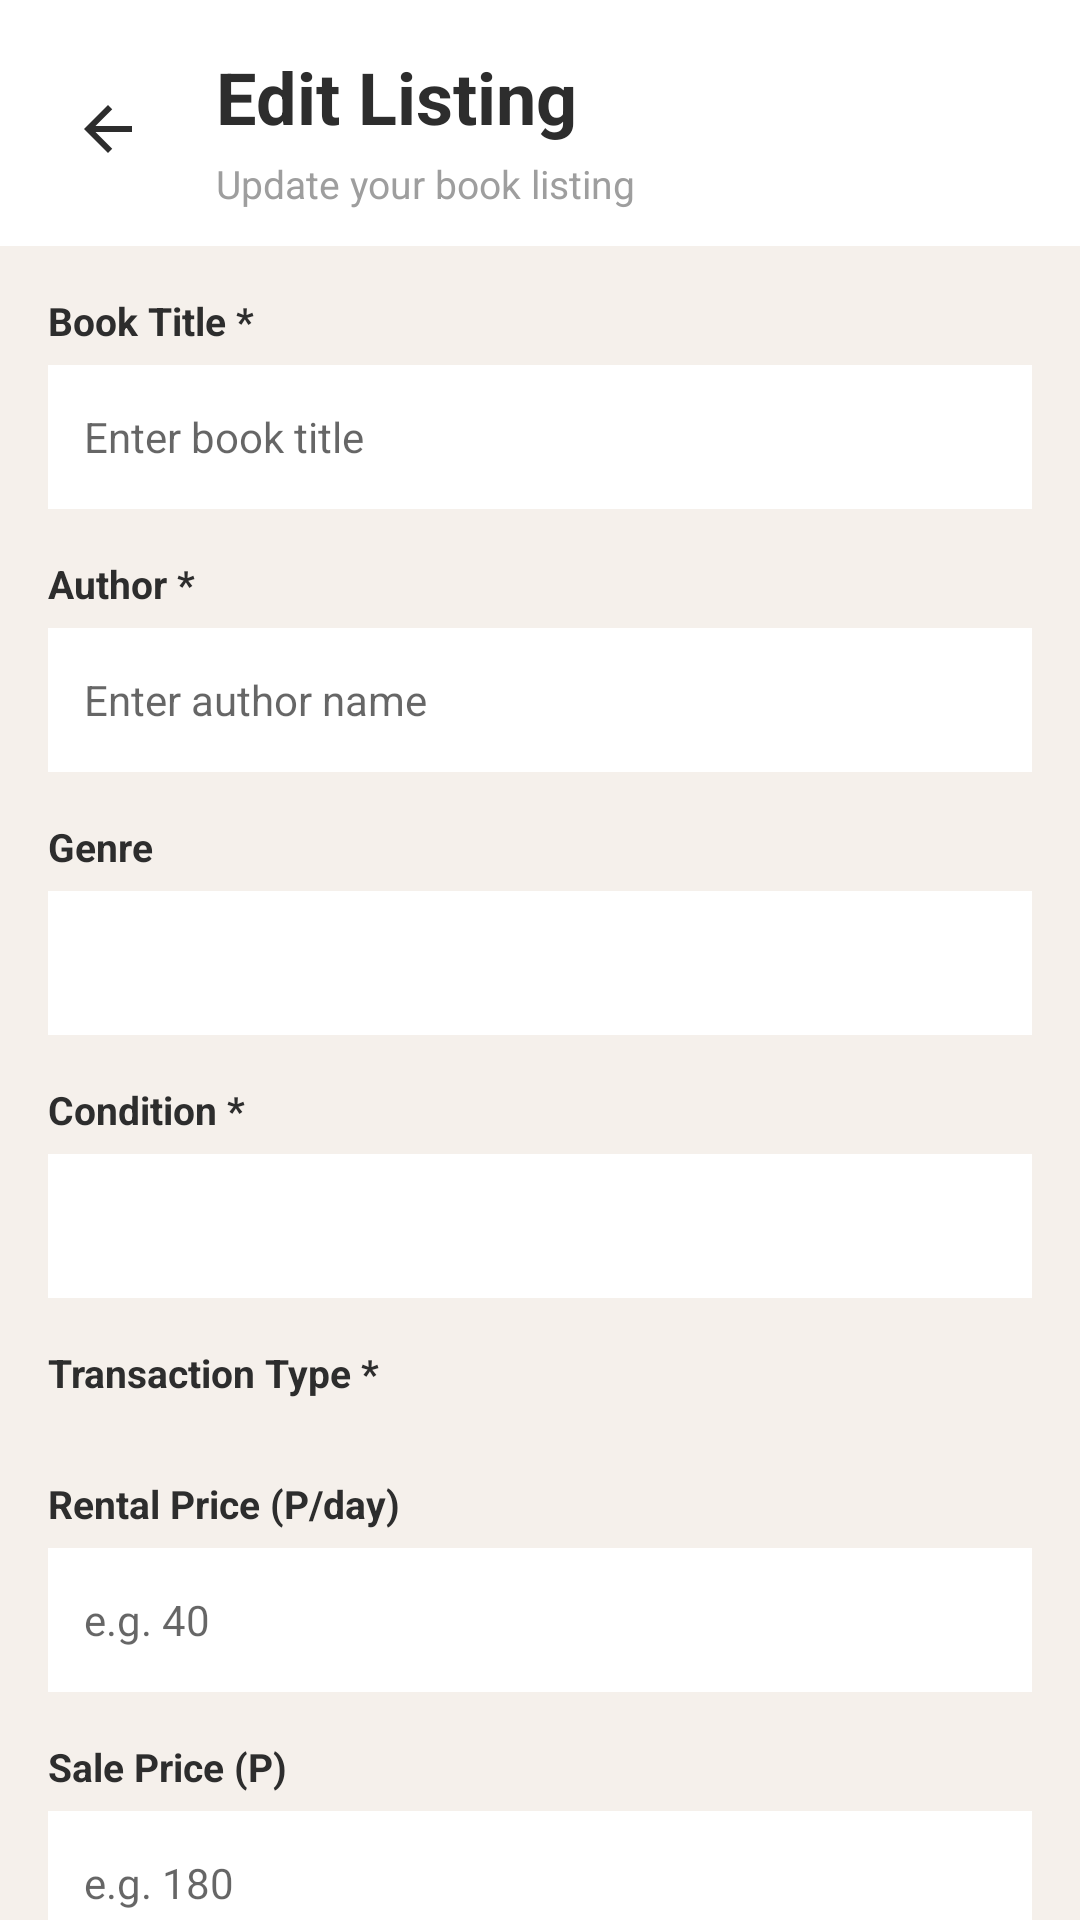

Icons on this 1080x1920 Android screen, each with the point to tap as point (x, y):
Back: point (108, 129)
